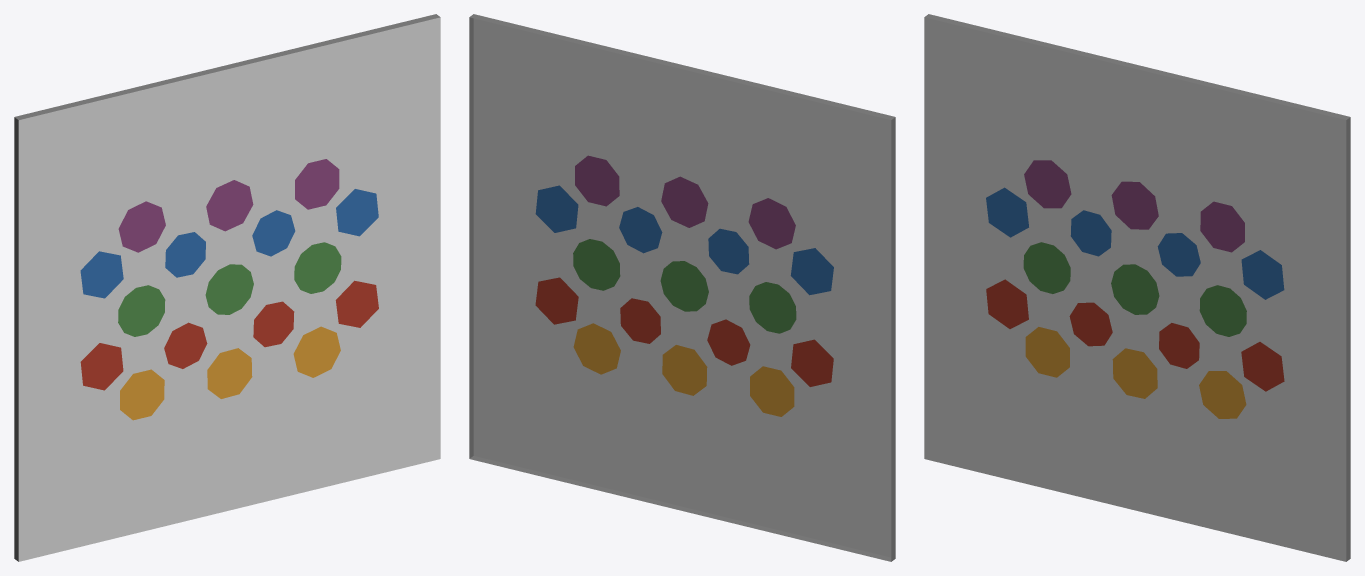
File: Int_SciencePoster02.fbx
The picture shows the model from 3 angles, left to right: view 1: azimuth 30°, elevation 25°; view 2: azimuth 150°, elevation 25°; view 3: azimuth 330°, elevation 25°; orthographic projection.
Parts seen in each view (by area): view 1: Int_SciencePoster02; view 2: Int_SciencePoster02; view 3: Int_SciencePoster02.
Boxes of the visible parts, x1,y1,x2,y2 form: Int_SciencePoster02: (14,14,440,561); Int_SciencePoster02: (469,14,895,561); Int_SciencePoster02: (924,14,1350,561).
Size of what is drawn, in the model's own units: 100 by 1.85 by 100.
